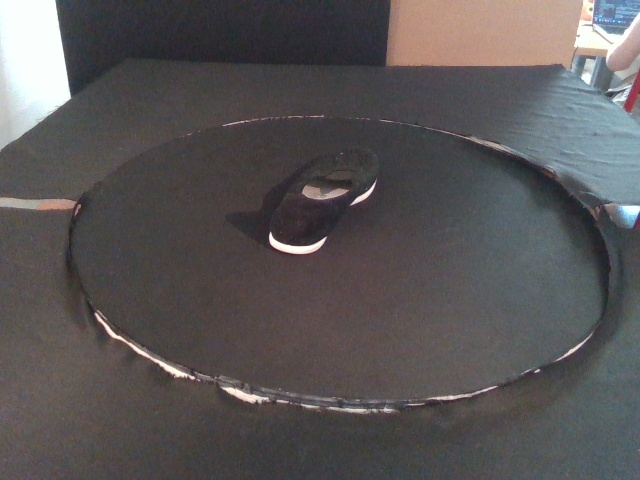shoe: (267, 143, 379, 256)
